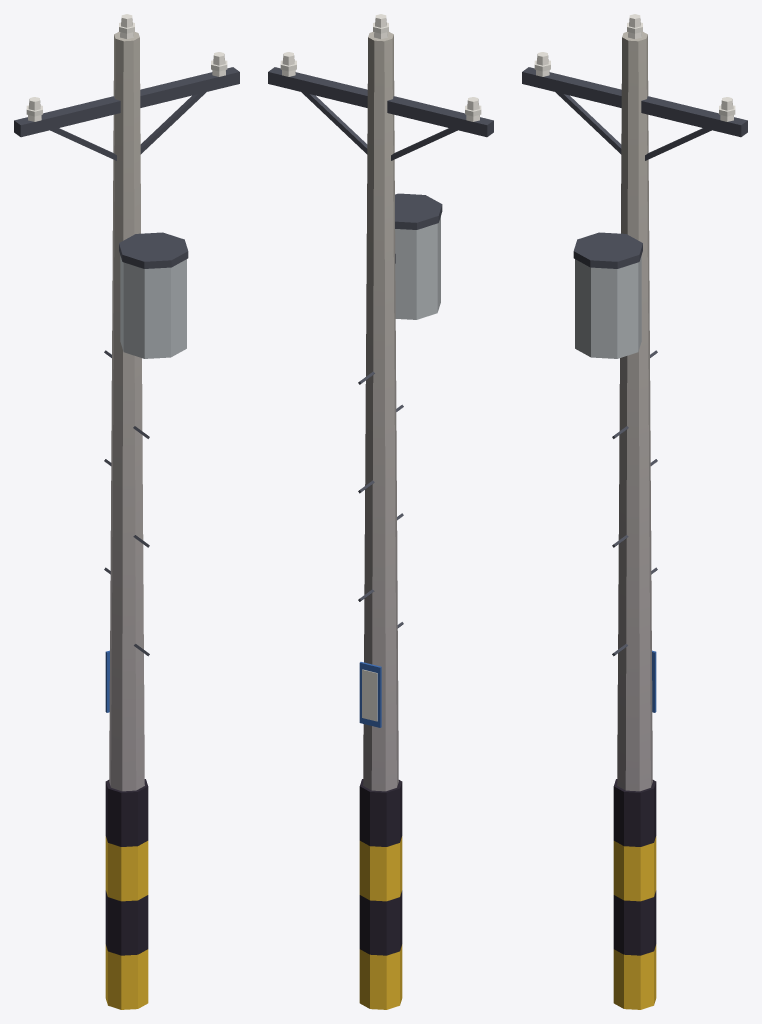
File: telephone_pole.glb
3 renders of one model, left to right at view 1: azimuth 30°, elevation 25°; view 2: azimuth 150°, elevation 25°; view 3: azimuth 330°, elevation 25°, orthographic.
Visible parts, largest first — view 1: telephone_pole; view 2: telephone_pole; view 3: telephone_pole.
Part boxes in pixels (box(x1,y1,x2,y2)): telephone_pole: box(14, 14, 239, 1009); telephone_pole: box(268, 14, 493, 1009); telephone_pole: box(522, 14, 747, 1009).
Bounding box in the file's own units: 1.9 × 8.16 × 0.99.
